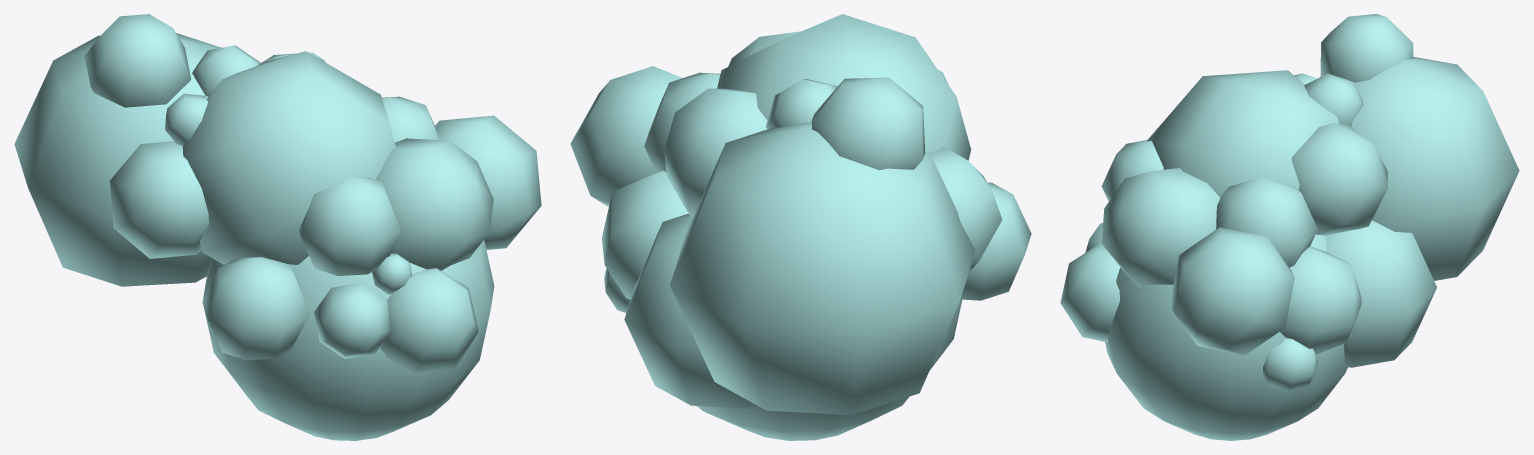
The model's file is p_renderable_foamgun_bubbles.fbx.
3 views of the same model, side by side, from view 1: azimuth 30°, elevation 25°; view 2: azimuth 150°, elevation 25°; view 3: azimuth 270°, elevation 25° (orthographic). The views are drawn at different scales.
Visible parts, largest first — view 1: Sphere.009; view 2: Sphere.009; view 3: Sphere.009.
Boxes of the visible parts, x1=… form: Sphere.009: x1=14, y1=14, x2=541, y2=440; Sphere.009: x1=570, y1=14, x2=1031, y2=440; Sphere.009: x1=1060, y1=14, x2=1519, y2=440.
Bounding box in the file's own units: 2.22 × 1.97 × 2.36.
